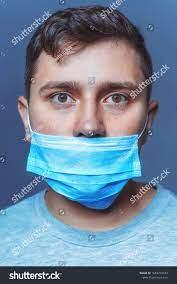mask_weared_incorrect: (32, 25, 146, 203)
